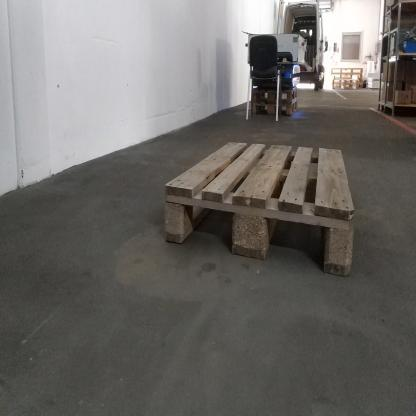BoxFace: (162, 135, 359, 285)
